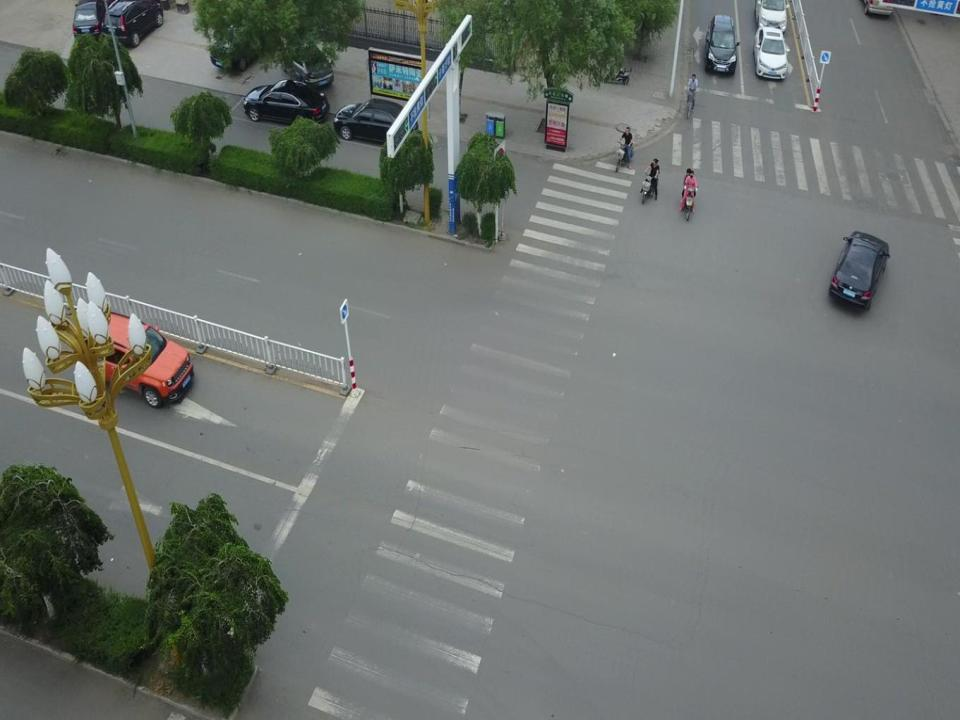car: (73, 312, 195, 408), (829, 228, 889, 313), (242, 80, 330, 128), (332, 100, 420, 140), (103, 0, 164, 46), (209, 22, 267, 70), (754, 28, 790, 82), (706, 16, 739, 74), (73, 0, 111, 38), (757, 0, 789, 33)
